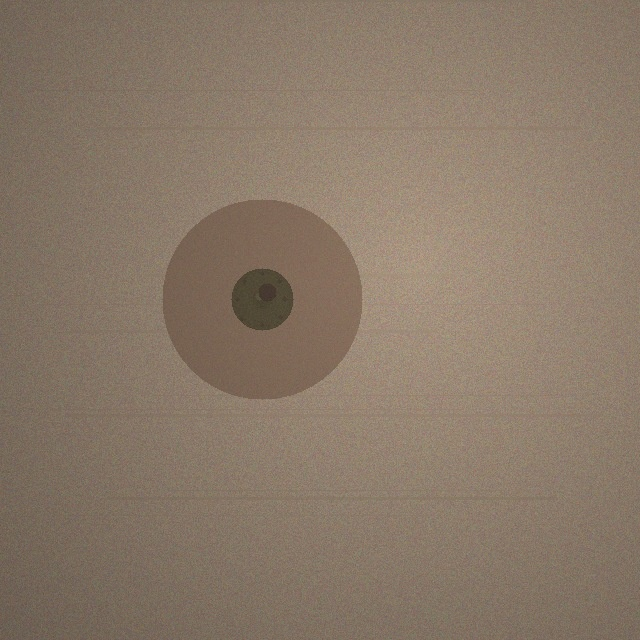cold_weld: (162, 199, 362, 399)
